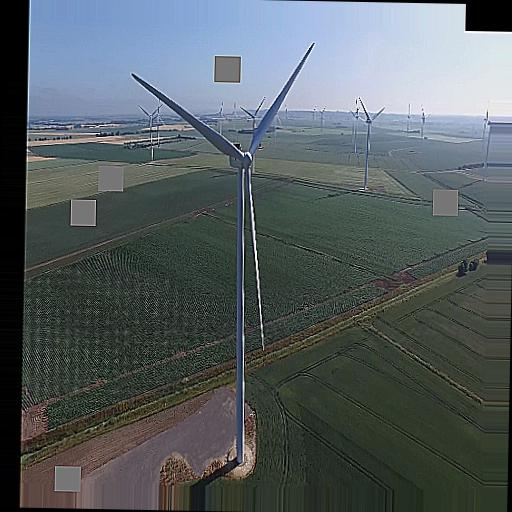wind turbine: (131, 43, 317, 463), (358, 99, 384, 190), (137, 103, 164, 161)
